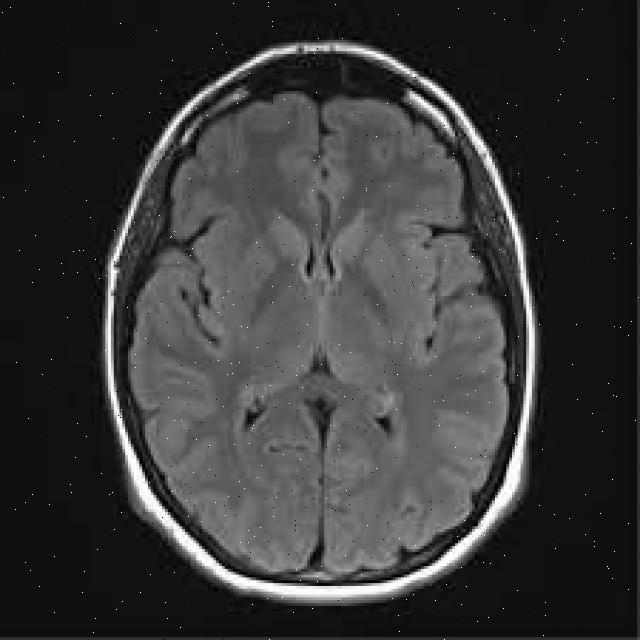No_Tumor: (105, 41, 535, 601)
